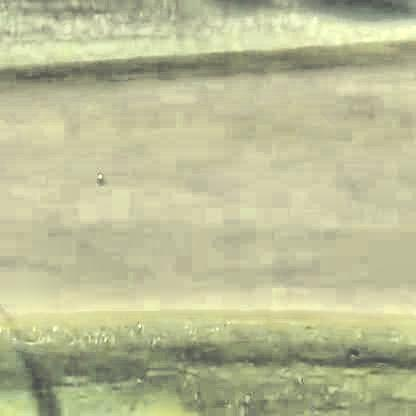golfball: (95, 167, 102, 178)
